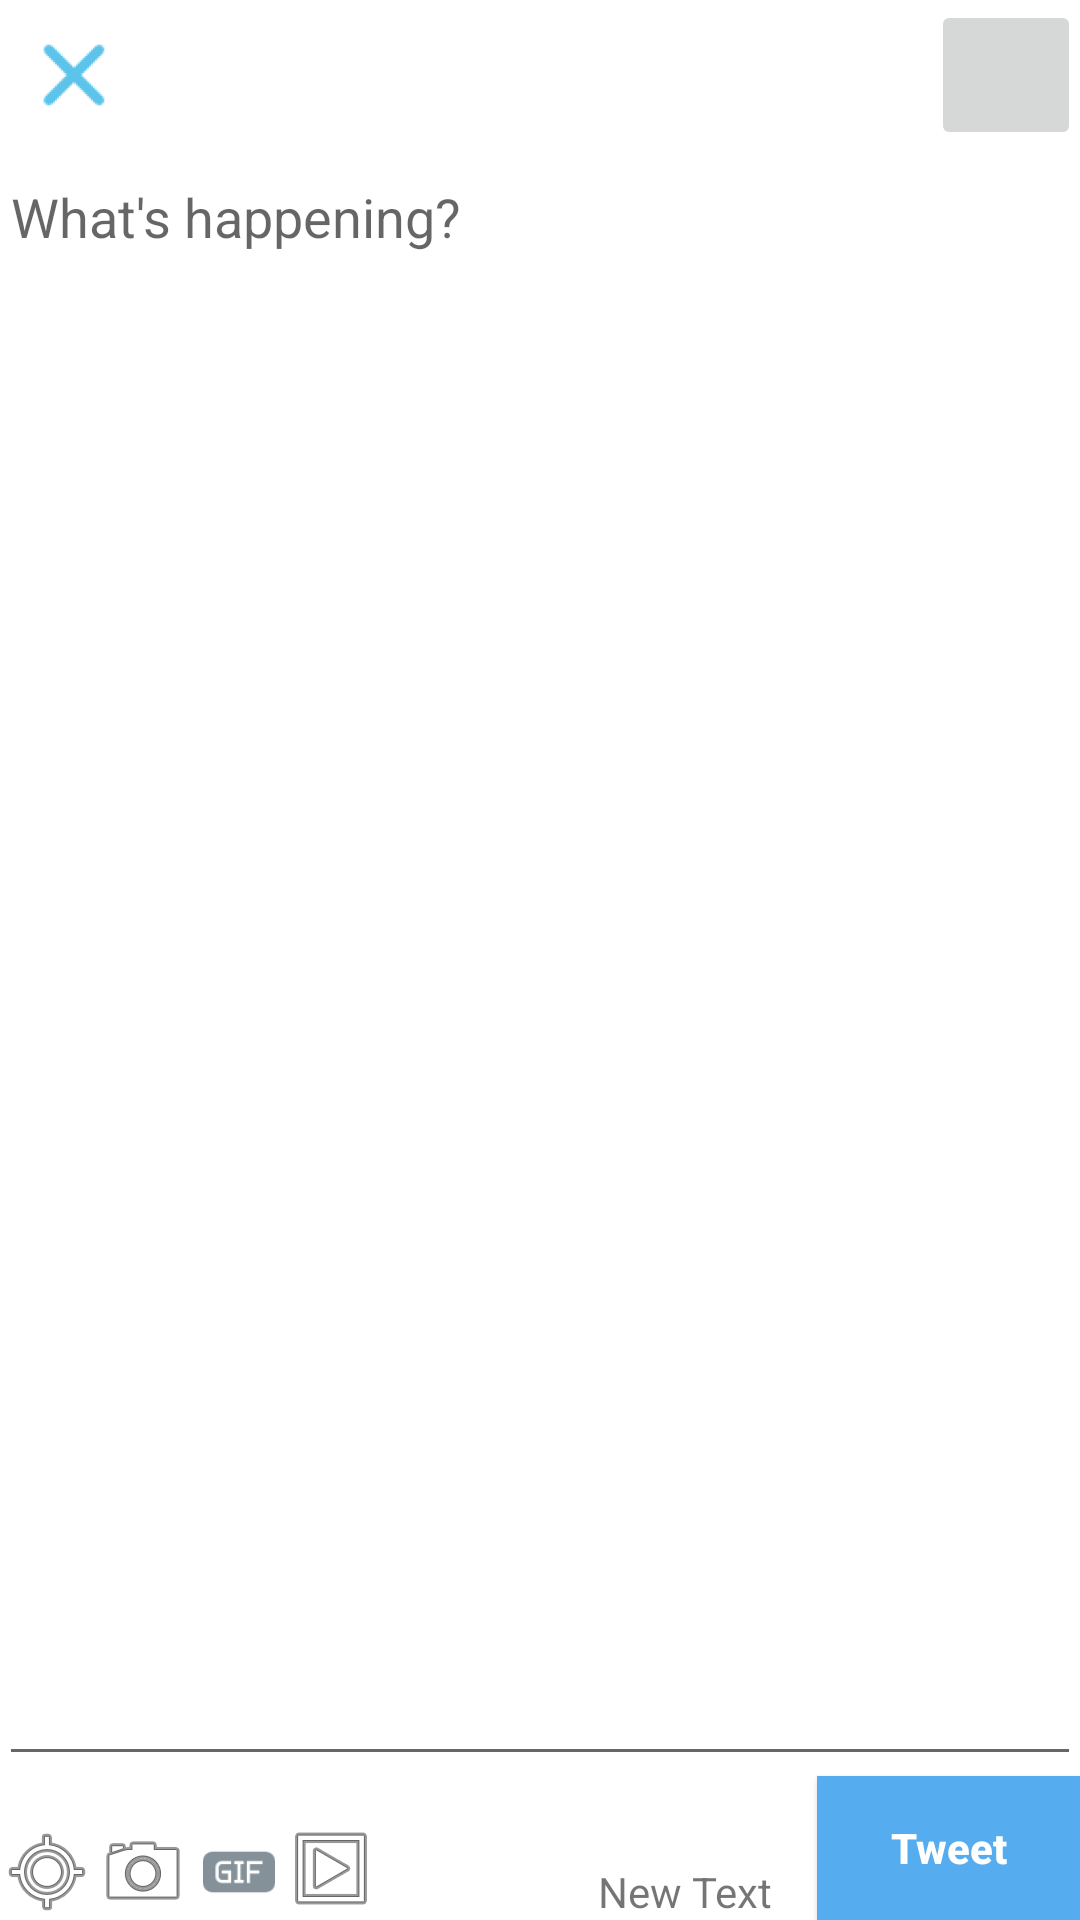

Screen size 1080 × 1920. Icon name, then its center in pixels as [x,y]:
camera: [143,1870]
cancel: [74,75]
mylocation: [47,1872]
slideshow: [331,1868]
